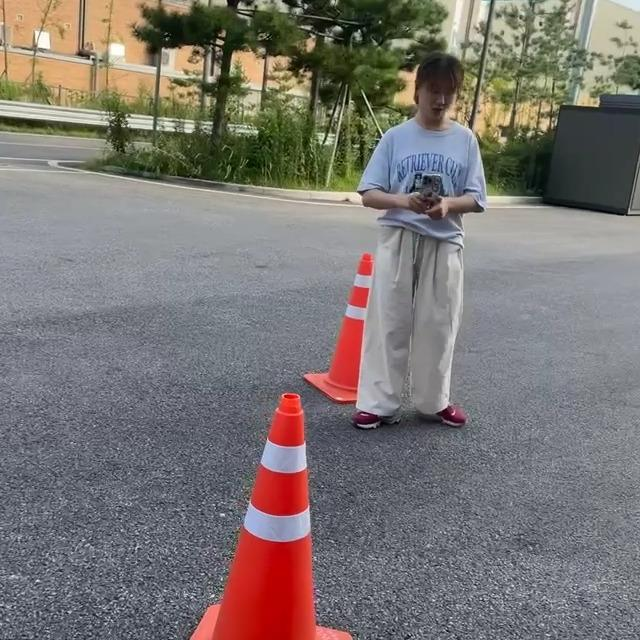fallen_object: (210, 364, 374, 640), (287, 232, 416, 436)
